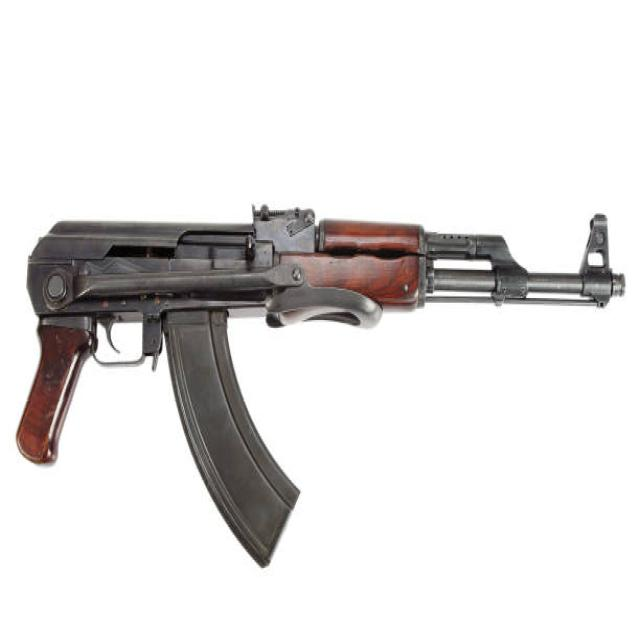rifle: (9, 197, 633, 575)
